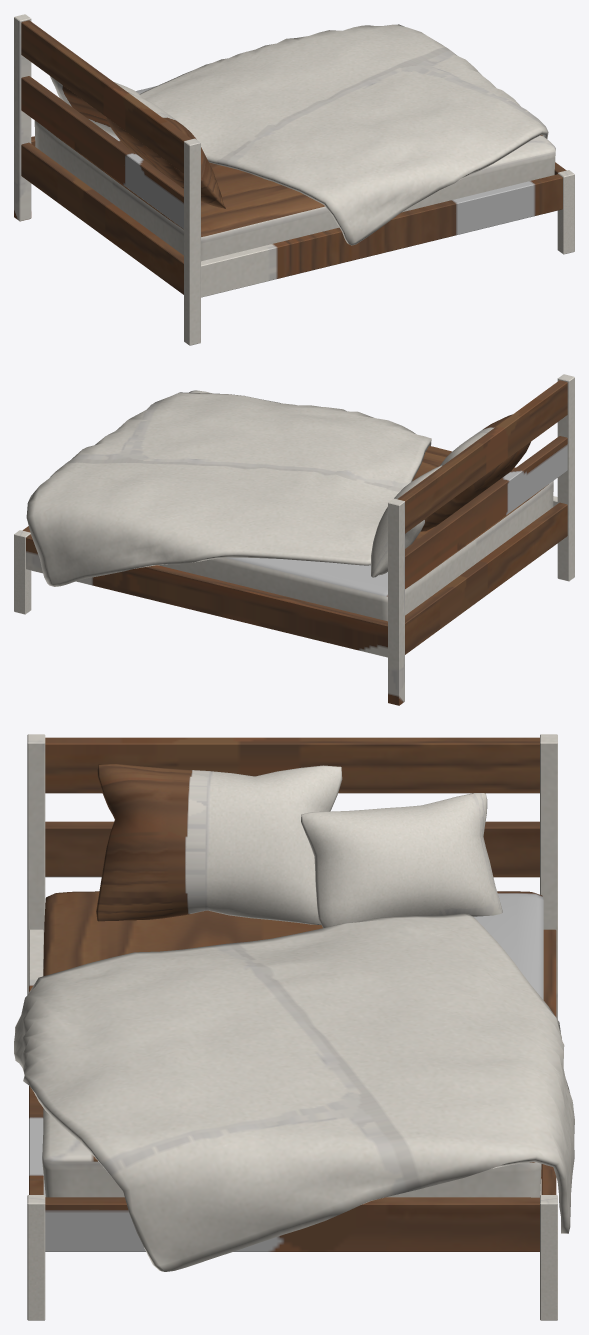
Rendered from bed2.glb.
3 renders of one model, top to bottom at view 1: azimuth 30°, elevation 25°; view 2: azimuth 150°, elevation 25°; view 3: azimuth 270°, elevation 25°, orthographic. The views are drawn at different scales.
Parts seen in each view (by area): view 1: Cube.004; view 2: Cube.004; view 3: Cube.004.
Part boxes in pixels (x1,y1,x2,y2): Cube.004: [14, 14, 574, 345]; Cube.004: [14, 374, 574, 705]; Cube.004: [14, 734, 574, 1320].
Size of the model in its own units: 2.05 by 0.9918 by 1.66.
Materials: 1 (1 with a texture image).
